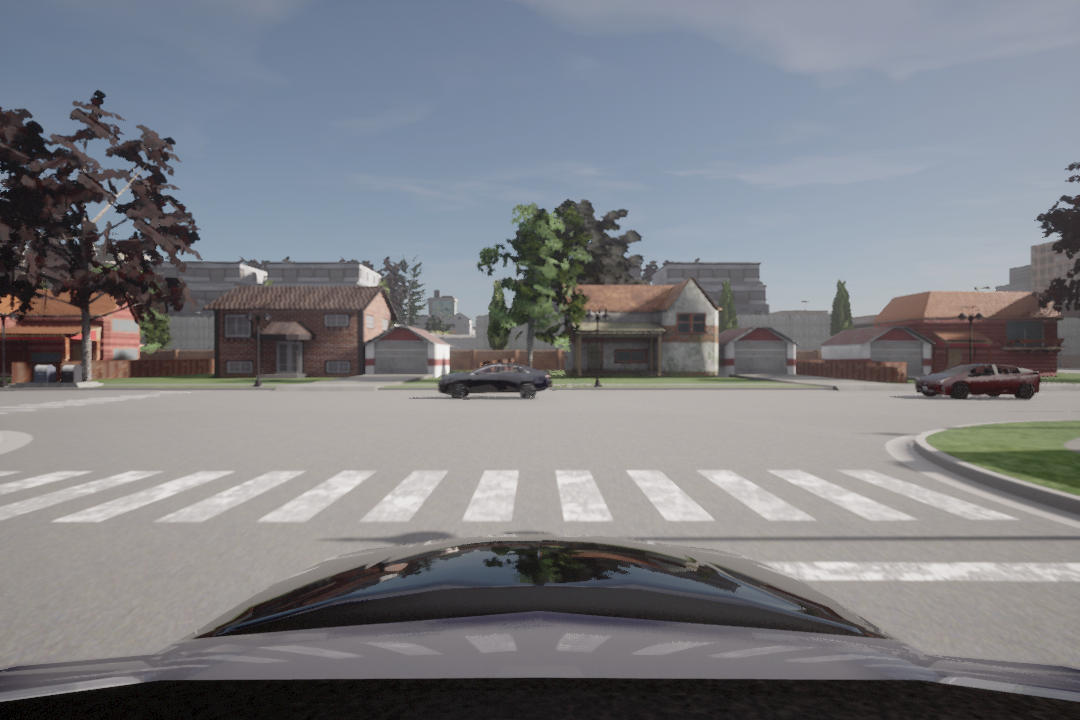walkside: (7, 457, 1038, 529)
